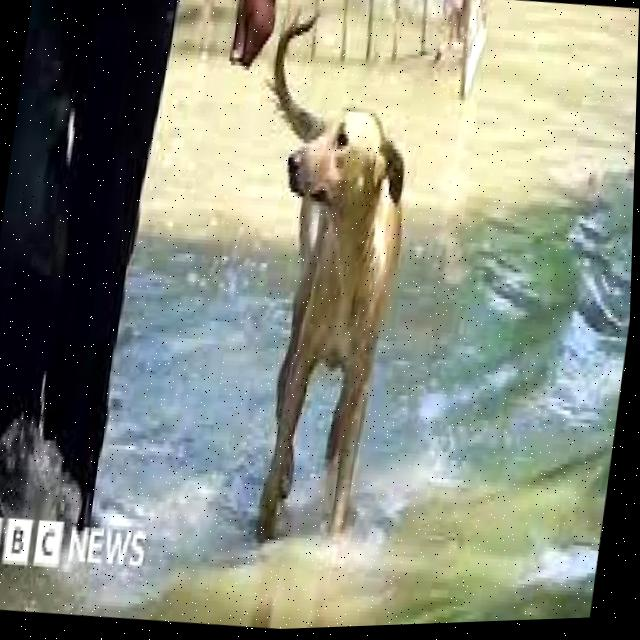dog: (190, 4, 443, 560)
